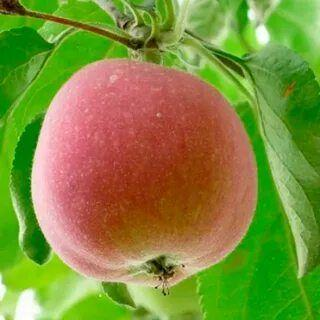Apple: (31, 57, 257, 290)
